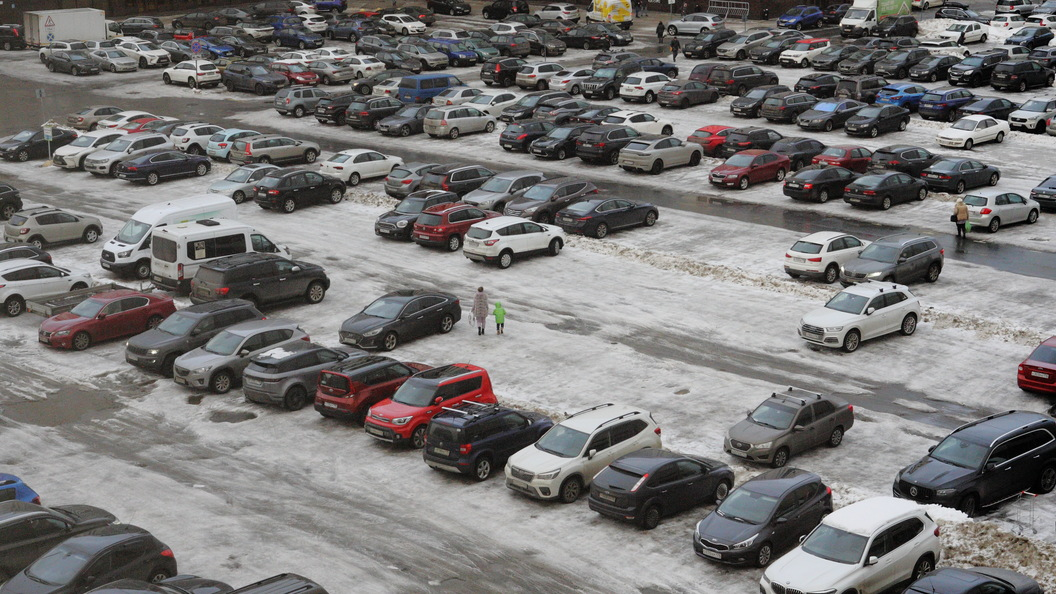Car: (759, 496, 942, 594), (892, 410, 1056, 516), (505, 403, 663, 503), (693, 467, 833, 567), (0, 524, 178, 594), (100, 194, 238, 280), (588, 449, 735, 529), (364, 363, 497, 447), (723, 387, 855, 468), (125, 300, 265, 375), (150, 219, 290, 293), (172, 319, 310, 394), (423, 402, 553, 481), (0, 501, 117, 582), (798, 282, 921, 353), (38, 290, 176, 351), (242, 342, 363, 411), (314, 354, 431, 424), (190, 253, 330, 307), (339, 290, 462, 351), (462, 216, 565, 269), (0, 259, 94, 317), (841, 235, 944, 285), (783, 231, 873, 283), (555, 196, 659, 239), (83, 131, 175, 178), (503, 178, 599, 223), (412, 204, 503, 251), (253, 168, 347, 213), (375, 190, 459, 240), (3, 207, 103, 247), (24, 8, 124, 47), (901, 567, 1044, 594), (462, 170, 547, 212), (843, 170, 928, 210), (618, 134, 703, 174), (114, 150, 211, 185), (52, 128, 129, 171), (963, 190, 1039, 233), (709, 150, 790, 190), (319, 149, 404, 186), (206, 163, 281, 203), (783, 166, 863, 203), (920, 158, 1000, 194), (419, 164, 498, 200), (84, 575, 231, 594), (575, 125, 647, 163), (840, 0, 912, 37), (0, 127, 78, 161), (230, 135, 321, 164), (527, 122, 598, 159), (936, 115, 1010, 150), (796, 96, 868, 131), (500, 89, 574, 123), (947, 48, 1009, 88), (424, 105, 496, 139), (705, 64, 780, 96), (866, 144, 940, 176), (1016, 336, 1056, 395), (345, 94, 410, 130), (990, 58, 1056, 92), (398, 73, 468, 105), (918, 86, 982, 121), (228, 572, 329, 594), (722, 125, 787, 159), (221, 63, 290, 95), (844, 104, 910, 137), (384, 163, 444, 199), (768, 136, 828, 171), (730, 85, 792, 118), (499, 118, 559, 151), (619, 71, 680, 103), (760, 91, 821, 123), (376, 105, 436, 137), (206, 128, 264, 161), (600, 111, 675, 136), (1008, 94, 1056, 133), (580, 66, 635, 100), (273, 86, 331, 118), (810, 144, 872, 173), (657, 79, 719, 108), (681, 28, 738, 59), (874, 48, 931, 79), (716, 30, 774, 60), (532, 96, 594, 124), (169, 123, 224, 154), (686, 125, 737, 158), (833, 75, 891, 104), (162, 60, 222, 88), (748, 34, 804, 64), (351, 70, 417, 95), (874, 83, 929, 113), (314, 90, 361, 125), (956, 95, 1019, 121), (460, 90, 518, 118), (115, 40, 173, 68), (65, 104, 125, 131), (780, 37, 831, 68), (425, 38, 479, 67), (515, 61, 568, 90), (480, 56, 529, 87), (96, 111, 180, 129), (396, 42, 449, 70), (516, 28, 567, 57), (45, 50, 100, 76), (908, 55, 963, 81), (811, 43, 862, 71), (267, 60, 319, 87), (838, 48, 890, 75), (585, 0, 633, 29), (616, 57, 679, 78), (0, 472, 41, 504), (934, 1, 991, 24), (116, 117, 181, 137), (666, 13, 725, 35), (579, 22, 634, 45), (549, 68, 597, 94), (794, 73, 842, 99), (39, 39, 90, 63), (272, 27, 325, 50), (555, 28, 611, 49), (325, 19, 375, 42), (308, 59, 354, 84), (777, 5, 823, 30), (869, 15, 919, 38), (1004, 27, 1054, 50), (937, 22, 989, 44), (375, 50, 422, 74), (484, 34, 531, 58), (89, 49, 138, 72), (186, 36, 235, 59), (159, 40, 210, 62), (570, 104, 623, 125), (219, 35, 269, 57), (0, 244, 53, 264), (430, 86, 483, 106), (457, 38, 500, 62), (342, 55, 386, 78), (592, 51, 642, 71), (355, 34, 400, 56), (381, 14, 428, 35), (533, 3, 580, 24), (171, 12, 228, 29), (918, 39, 971, 57), (234, 20, 275, 43), (1030, 175, 1056, 211), (482, 0, 529, 19), (248, 0, 297, 18), (0, 183, 23, 219), (119, 16, 165, 34), (260, 13, 304, 31), (1028, 45, 1056, 73), (399, 6, 437, 26), (214, 7, 256, 25), (688, 63, 725, 83), (297, 13, 328, 36), (371, 76, 403, 98), (0, 24, 27, 50), (875, 37, 921, 52), (427, 0, 472, 15), (280, 50, 319, 67), (534, 20, 578, 35), (135, 28, 173, 45), (498, 14, 543, 28), (311, 47, 352, 62), (990, 13, 1026, 30), (994, 44, 1032, 60), (822, 4, 852, 24), (995, 0, 1035, 15), (242, 53, 284, 67), (211, 58, 248, 73), (427, 27, 472, 39), (306, 0, 347, 13), (173, 26, 206, 42), (1022, 14, 1056, 29), (487, 21, 526, 34), (369, 19, 396, 37), (1028, 0, 1056, 17), (768, 29, 814, 39), (208, 26, 247, 37), (318, 12, 350, 25), (85, 39, 116, 52), (291, 0, 319, 14), (849, 38, 883, 49), (397, 34, 433, 44), (111, 36, 142, 47), (466, 29, 499, 39), (911, 0, 945, 9), (349, 12, 382, 19), (1046, 113, 1056, 136), (375, 9, 403, 16), (747, 27, 774, 31)
